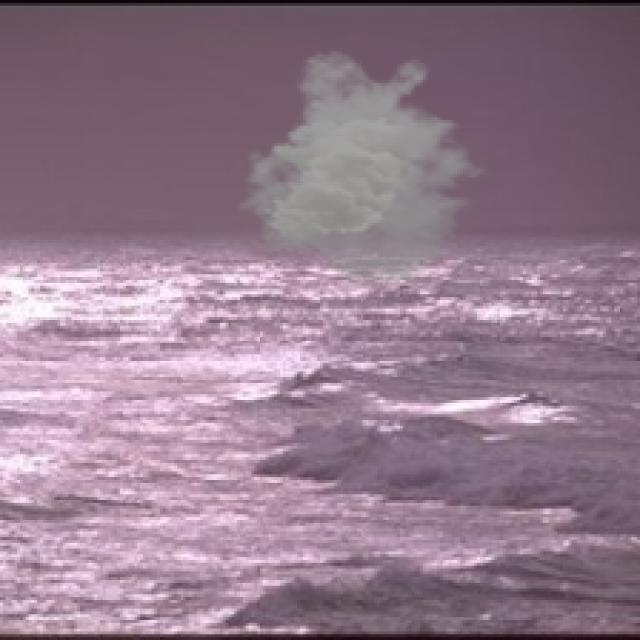Smoke: (234, 49, 497, 288)
